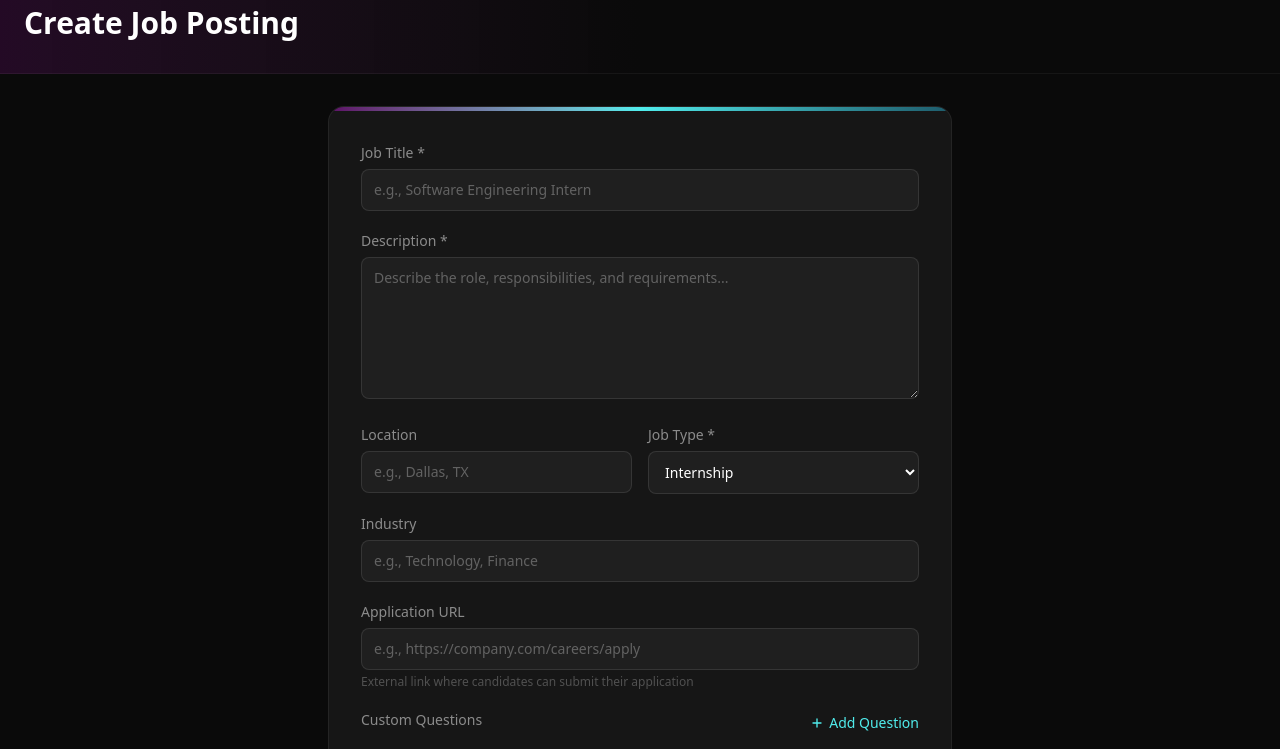
Test case: JobCreatePage › remove-question button drops a question row
Click the button "Add Question": (864, 723) [809,713,919,733]
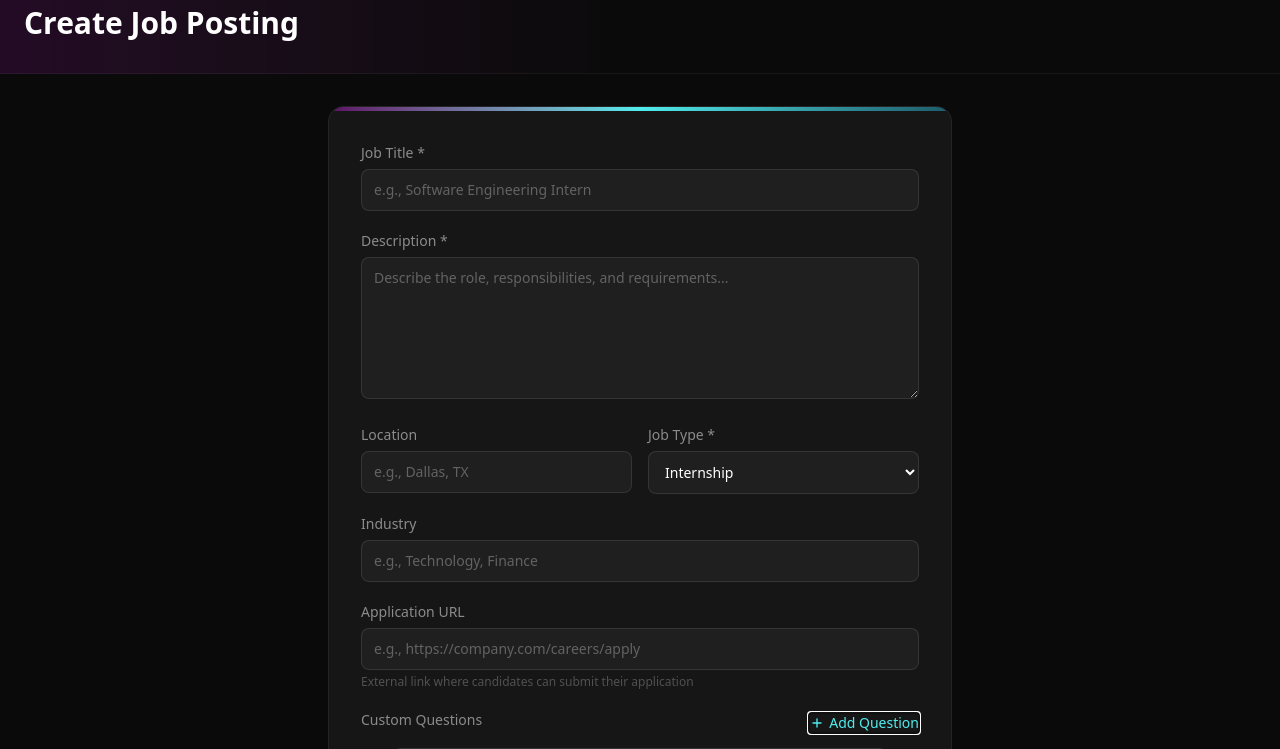
Click the button "Add Question": (864, 723) [809,713,919,733]
(page scrolled)
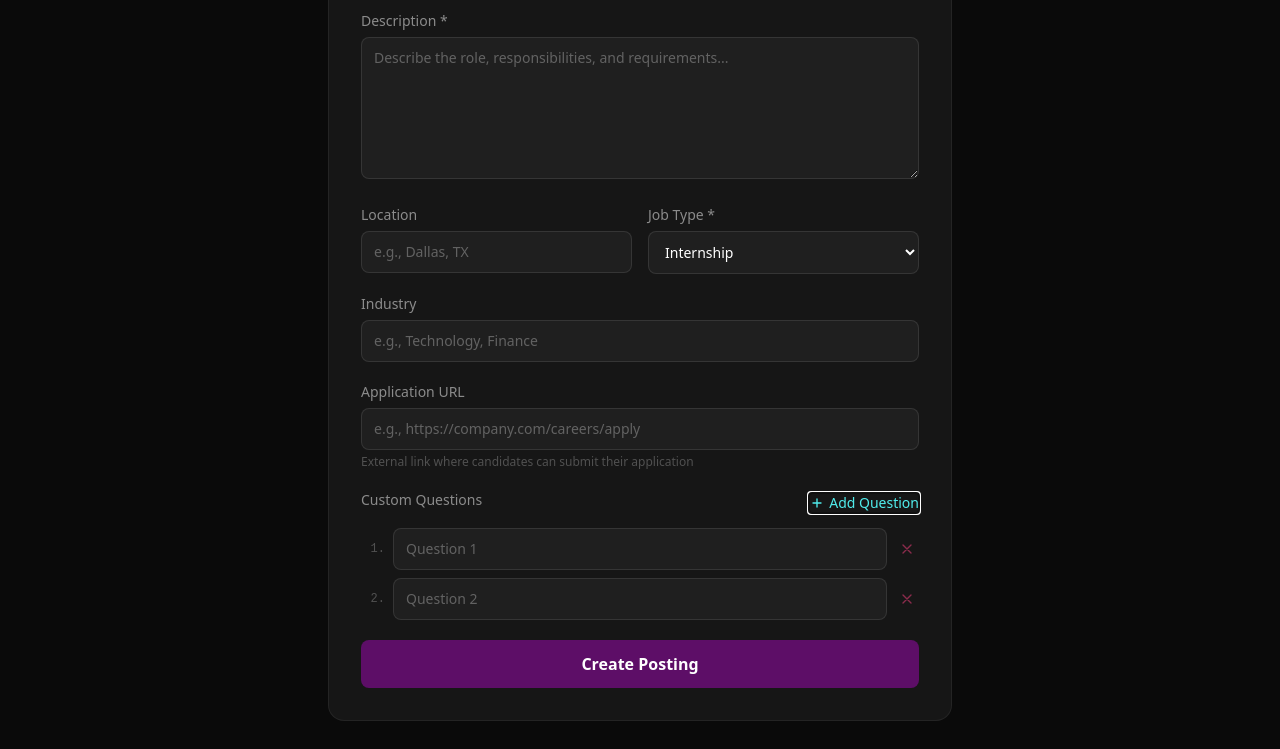
Now the number of fields with placeholder "Question 1" is 2, box [393,528,887,570]; [393,578,887,620]
Click the 1st button named "Remove question": (907, 549) [895,537,919,561]
(page scrolled)
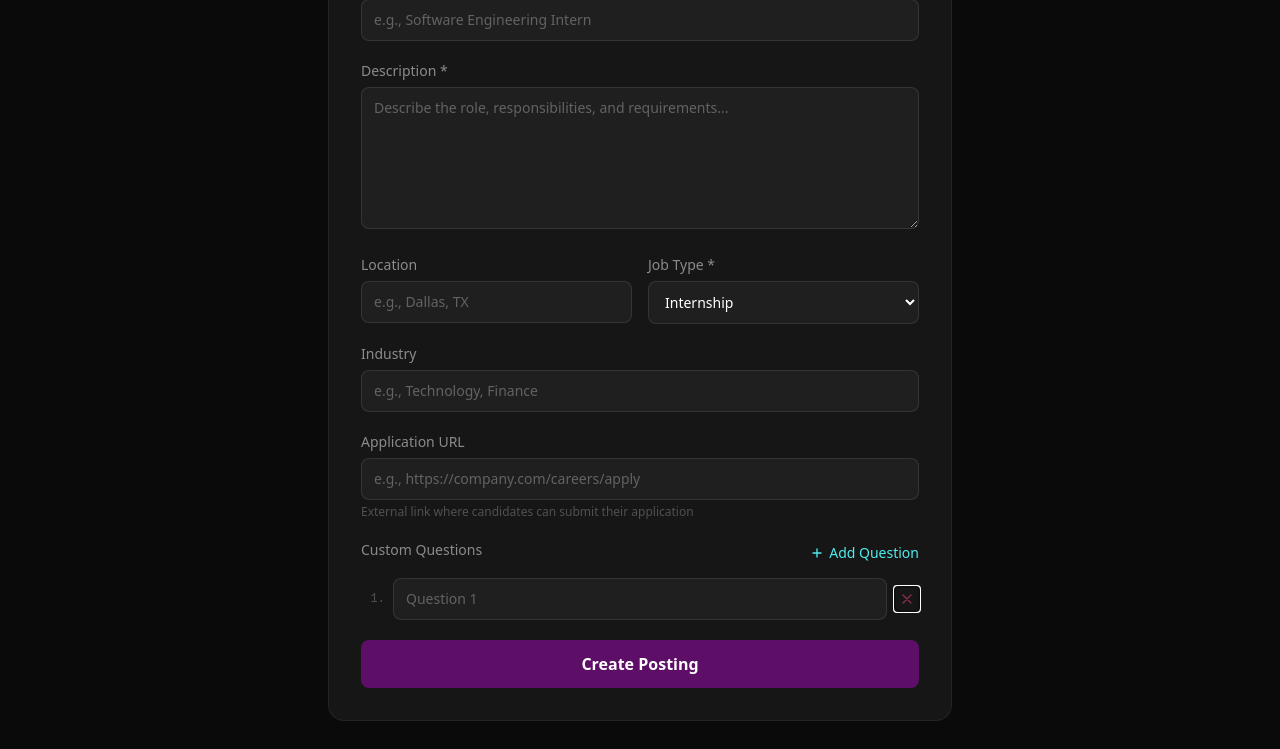
Now the number of fields with placeholder "Question 1" is 1, box [393,578,887,620]
